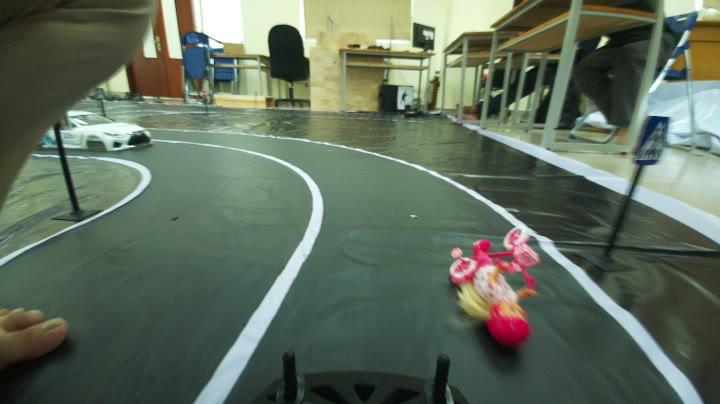crosswalk: (628, 115, 682, 174)
pedestrian: (429, 242, 551, 350)
